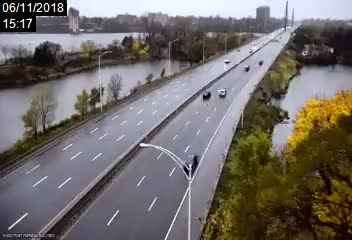personal_car: (181, 151, 199, 172), (217, 86, 228, 98), (201, 90, 212, 100)
